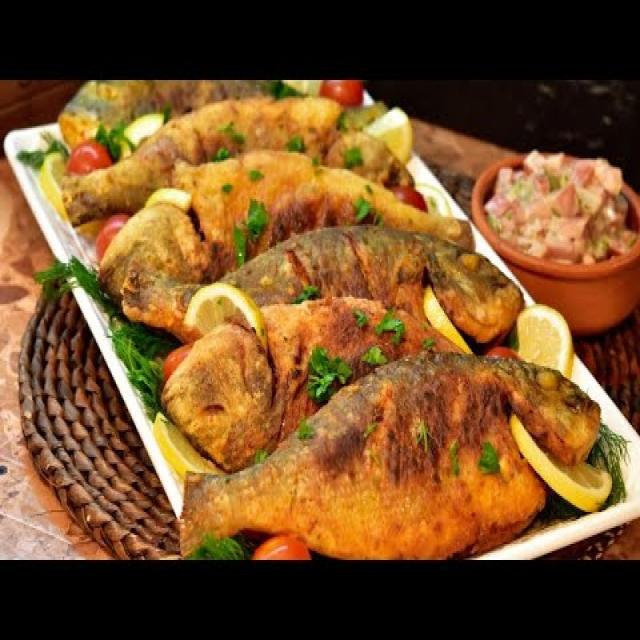Peixe: (57, 89, 604, 558), (176, 348, 601, 560), (96, 149, 475, 338), (160, 293, 467, 473), (59, 94, 417, 224)
